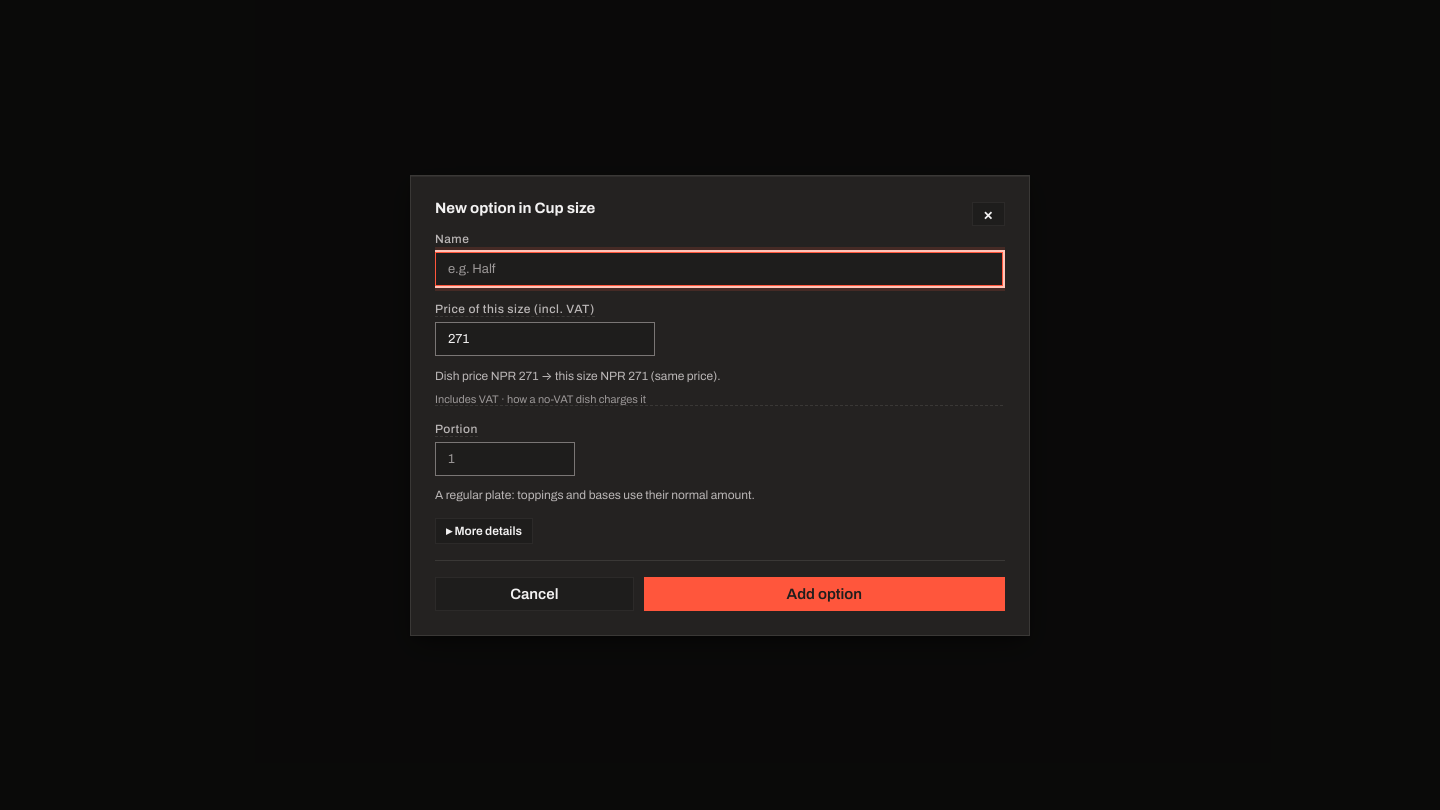
Test case: SETUP-5: an emptied full-price box is a field error, not a free size
The image size is (1440, 810).
In the field labelled "Name": (719,268) [435,252,1003,286], type "Small"
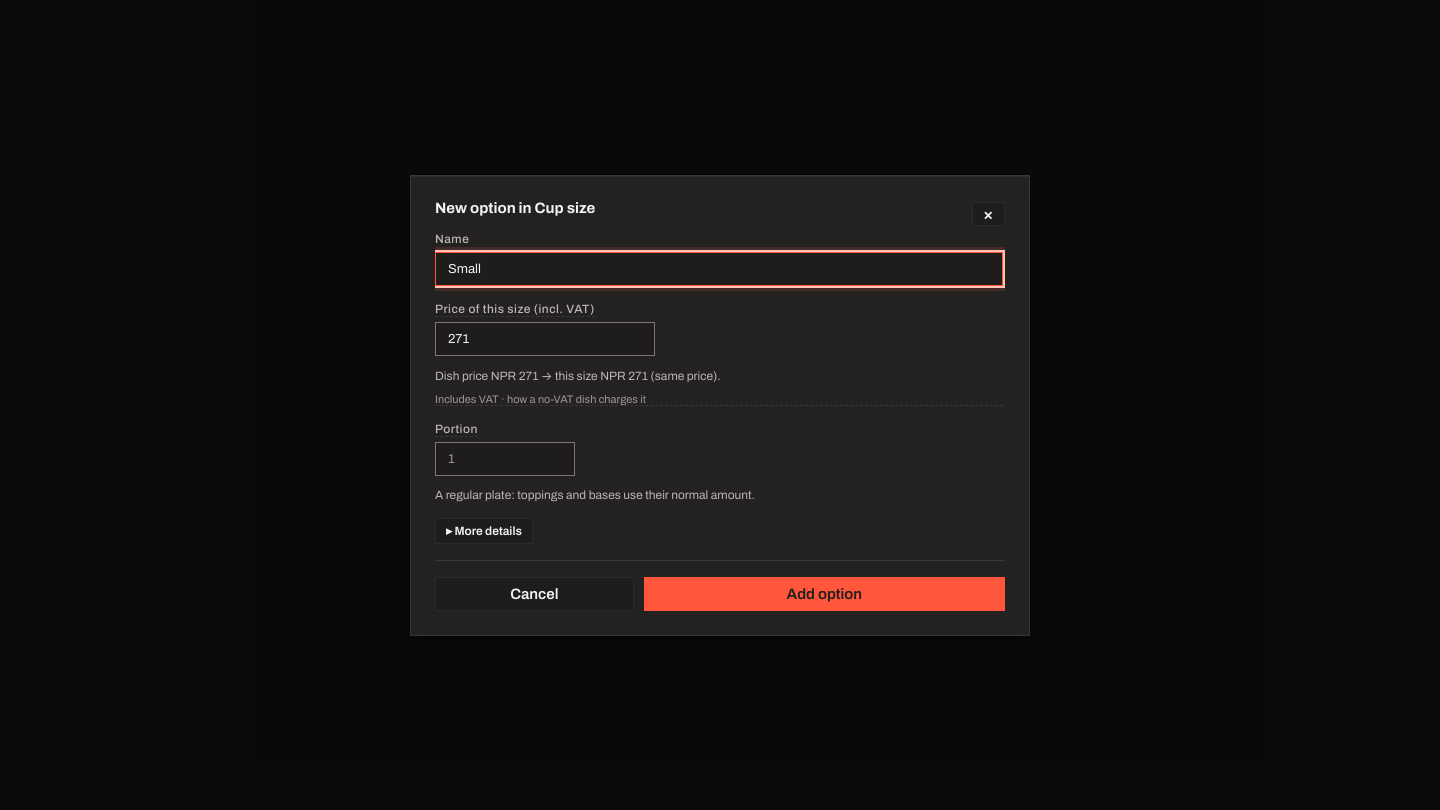
Clear the number field labelled "Price of this size (incl. VAT)": (545,338) [435,322,655,356]
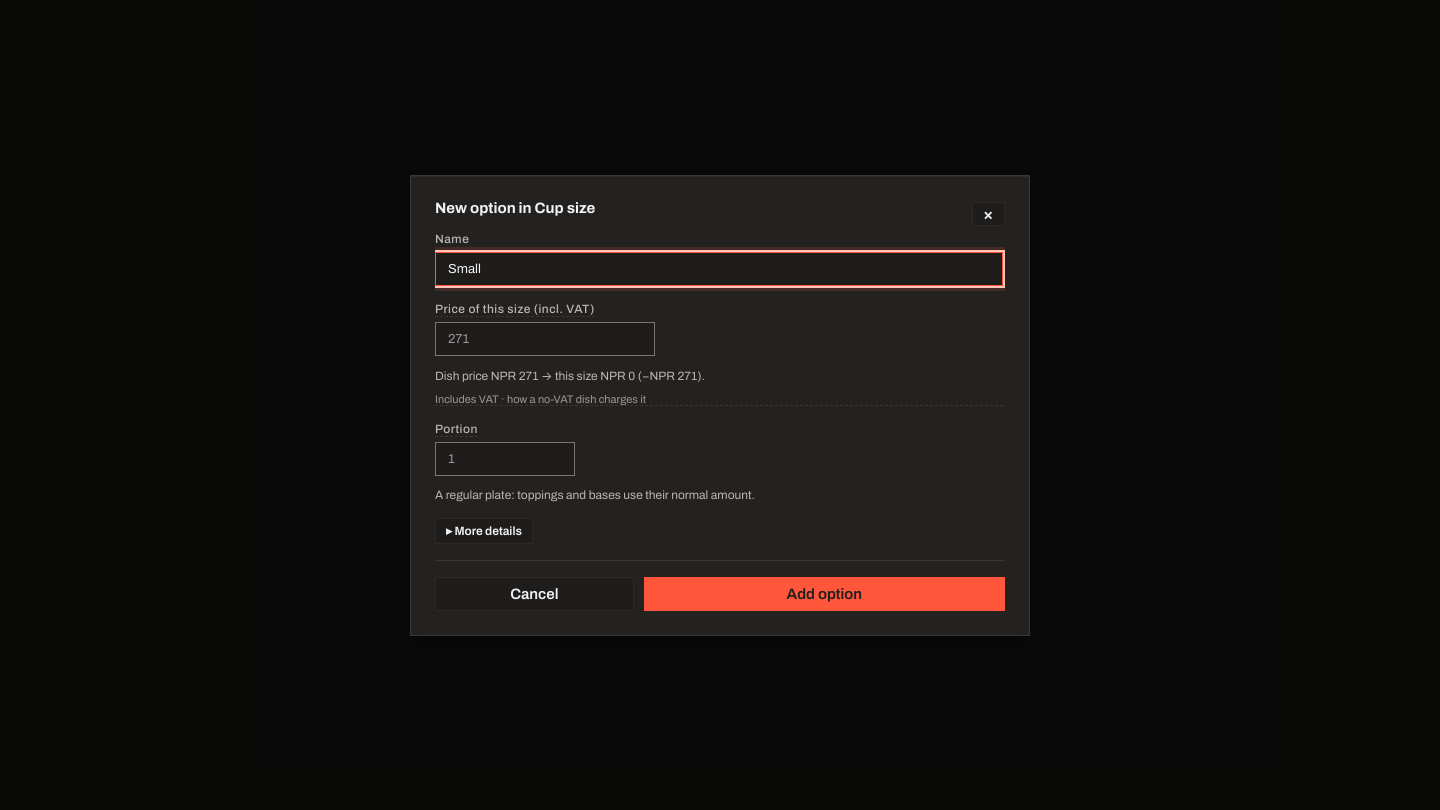
Click the button "Add option": (824,594) [644,576,1005,610]
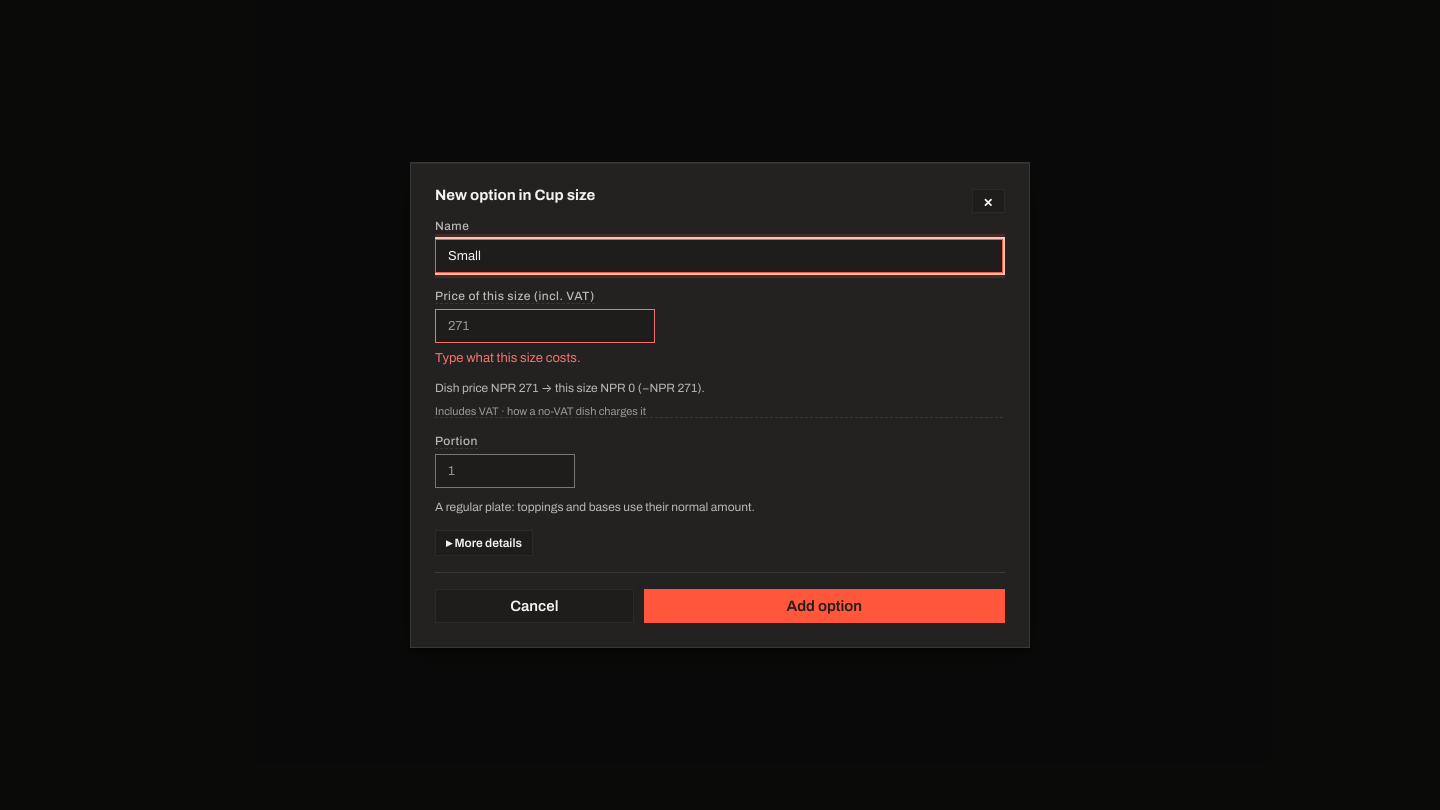
Result: the text "Type what this size costs." is shown at [435,351,580,365]
